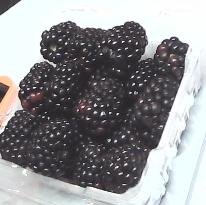berry: (73, 69, 124, 135), (133, 75, 179, 148), (92, 21, 147, 74), (26, 115, 71, 177), (100, 143, 148, 192), (45, 58, 84, 117), (0, 109, 37, 166), (40, 20, 84, 63), (154, 36, 188, 91), (62, 27, 106, 69), (72, 140, 108, 188), (107, 108, 150, 147), (19, 61, 53, 108), (124, 59, 158, 102)
